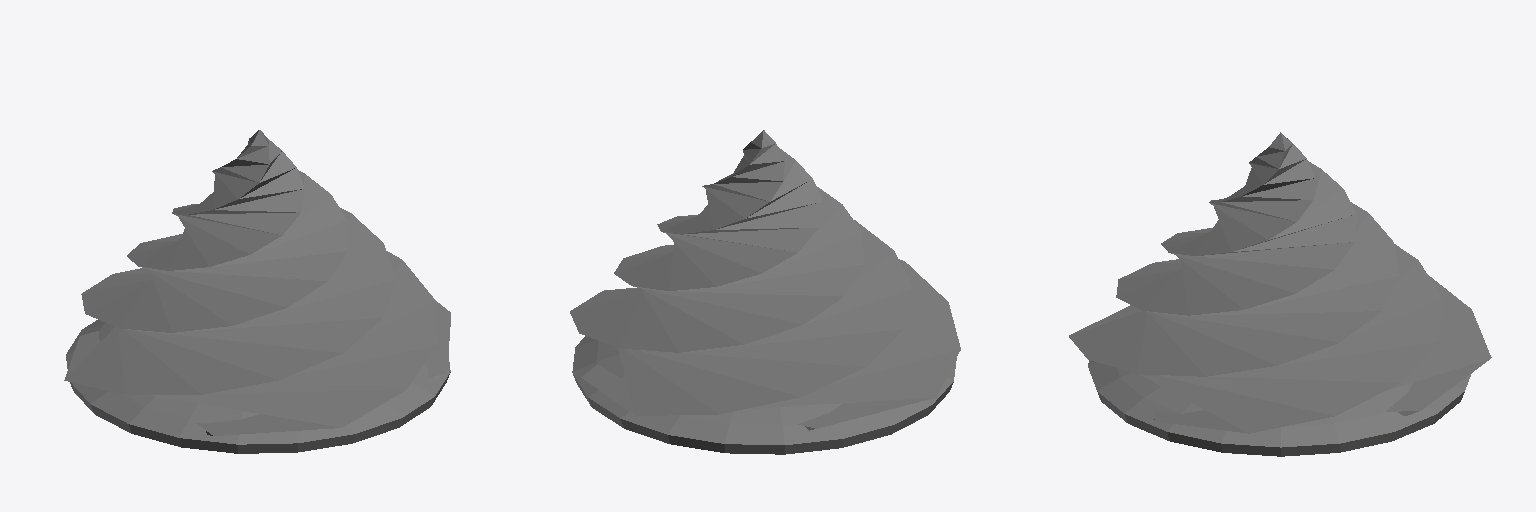
The model's file is cream.obj.
The picture shows the model from 3 angles: view 1: azimuth 30°, elevation 25°; view 2: azimuth 150°, elevation 25°; view 3: azimuth 270°, elevation 25°; orthographic projection.
Parts seen in each view (by area): view 1: pCube3; view 2: pCube3; view 3: pCube3.
Part boxes in pixels (left/top/right/bottom): pCube3: left=64, top=130, right=450, bottom=435; pCube3: left=570, top=130, right=960, bottom=430; pCube3: left=1069, top=132, right=1491, bottom=433.
Bounding box in the file's own units: 4.91 × 3.27 × 5.